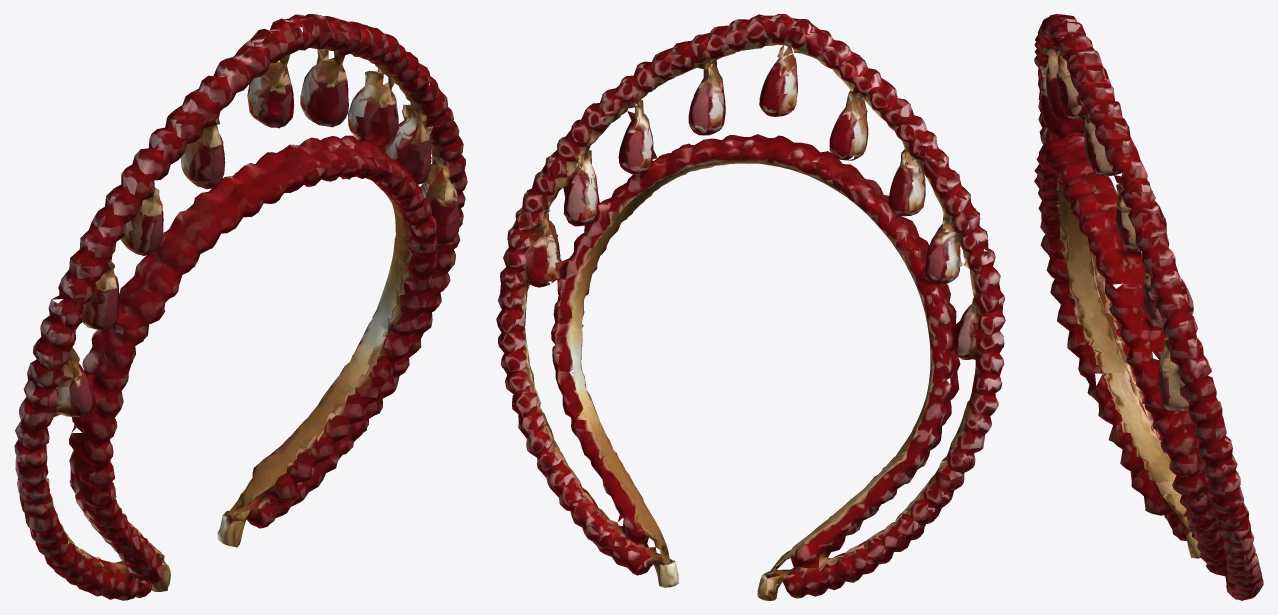
File: kirmizi_bilezik.glb
3 views of the same model, side by side, from view 1: azimuth 30°, elevation 25°; view 2: azimuth 150°, elevation 25°; view 3: azimuth 270°, elevation 25° (orthographic). The views are drawn at different scales.
Parts seen in each view (by area): view 1: kirmizi_bilezik; view 2: kirmizi_bilezik; view 3: kirmizi_bilezik.
Part boxes in pixels (x1,y1,x2,y2): kirmizi_bilezik: (14,14,467,600); kirmizi_bilezik: (496,14,1005,600); kirmizi_bilezik: (1034,14,1263,600).
Size of the model in its own units: 1.59 by 1.81 by 0.6748.
1 material, 1 textured.
